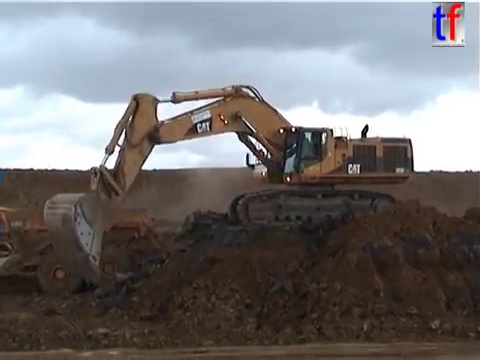excavator: (40, 80, 417, 287)
truck: (1, 202, 155, 296)
